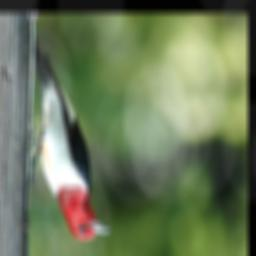Woodpecker: (18, 29, 113, 241)
